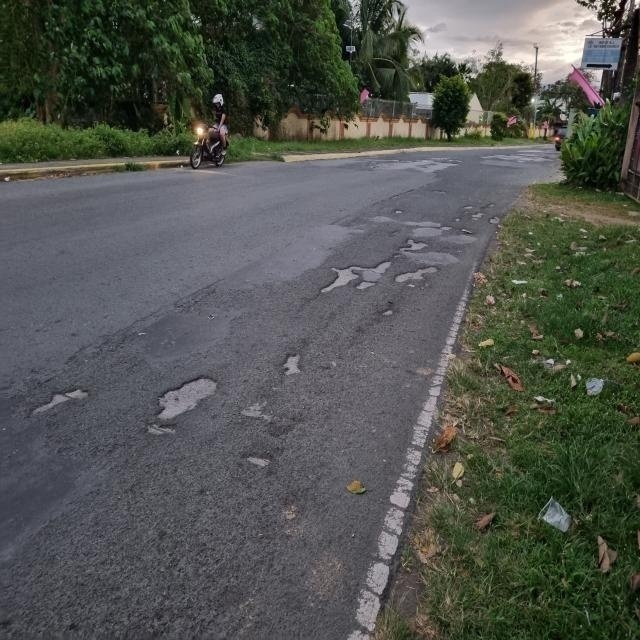pothole: (36, 361, 267, 477), (300, 238, 460, 308)
